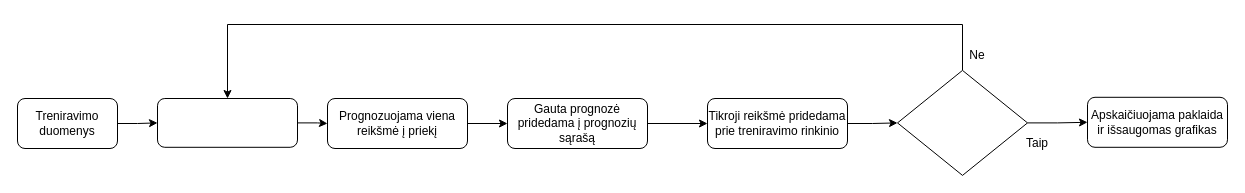
The diagram is 1245 pixels wide and 193 high, and some of its shapes have lost their labels. The shapes that lost their labels are listed below. From the top down, each one's centre as x and y in pixels, then its label:
At pixel 227 122: "Apmokomas modelis su treniravimo rinkiniu".
At pixel 962 122: "Baigėsi testavimo duomenys?".
